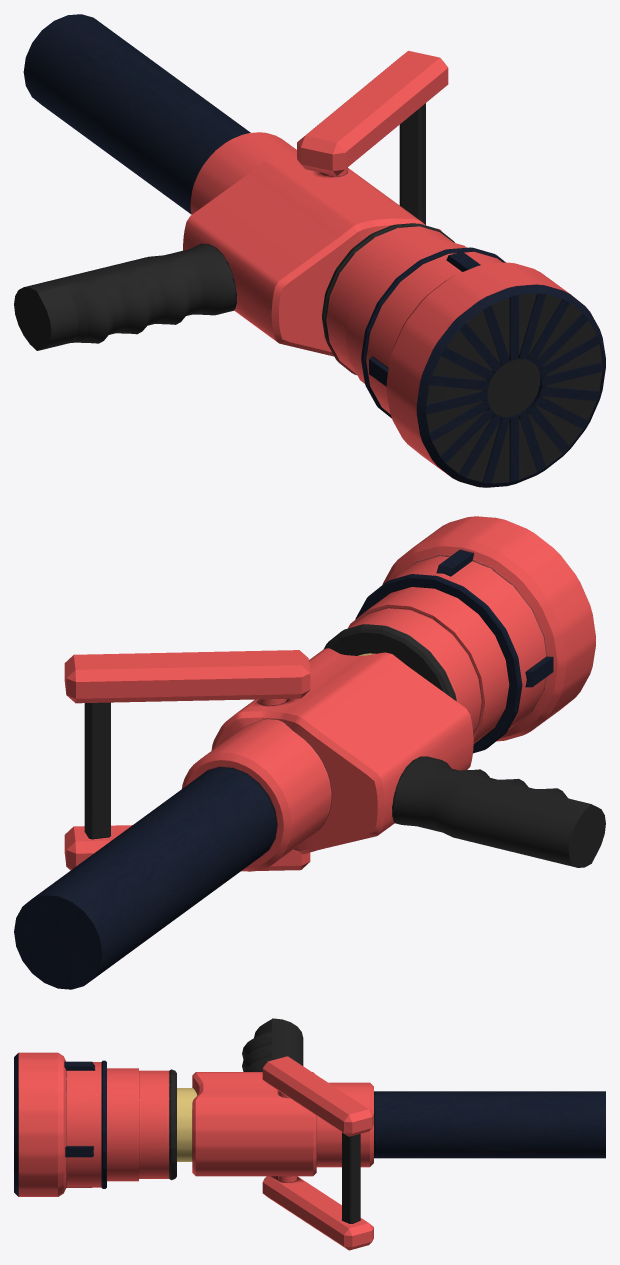
Rendered from firefight_water_gun.glb.
3 views of the same model, one above another, from view 1: azimuth 30°, elevation 25°; view 2: azimuth 150°, elevation 25°; view 3: azimuth 270°, elevation 25° (orthographic). The views are drawn at different scales.
Parts seen in each view (by area): view 1: pCylinder17; view 2: pCylinder17; view 3: pCylinder17.
Part boxes in pixels (box(x1,y1,x2,y2)): pCylinder17: box(14, 14, 605, 487); pCylinder17: box(14, 516, 605, 989); pCylinder17: box(14, 1018, 605, 1250).
Size of the model in its own units: 17.5 by 7.34 by 29.
Materials: 1 (1 with a texture image).
